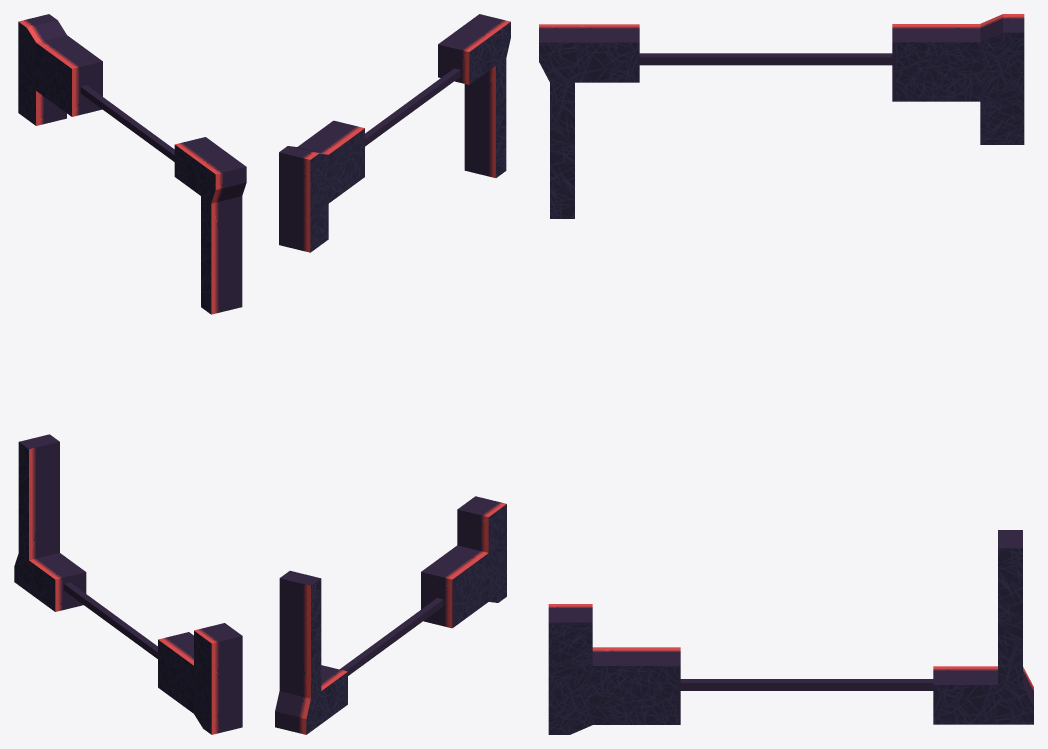
The model's file is Frame_Art.glb.
3 renders of one model, left to right at view 1: azimuth 30°, elevation 25°; view 2: azimuth 150°, elevation 25°; view 3: azimuth 270°, elevation 25°, orthographic. The views are drawn at different scales.
Parts seen in each view (by area): view 1: Frame_Art; view 2: Frame_Art; view 3: Frame_Art.
Part boxes in pixels (x1,y1,x2,y2): Frame_Art: (14, 14, 246, 734); Frame_Art: (275, 14, 510, 734); Frame_Art: (539, 14, 1033, 734).
Bounding box in the file's own units: 0.2015 × 3.55 × 2.27.
1 material, 1 textured.
